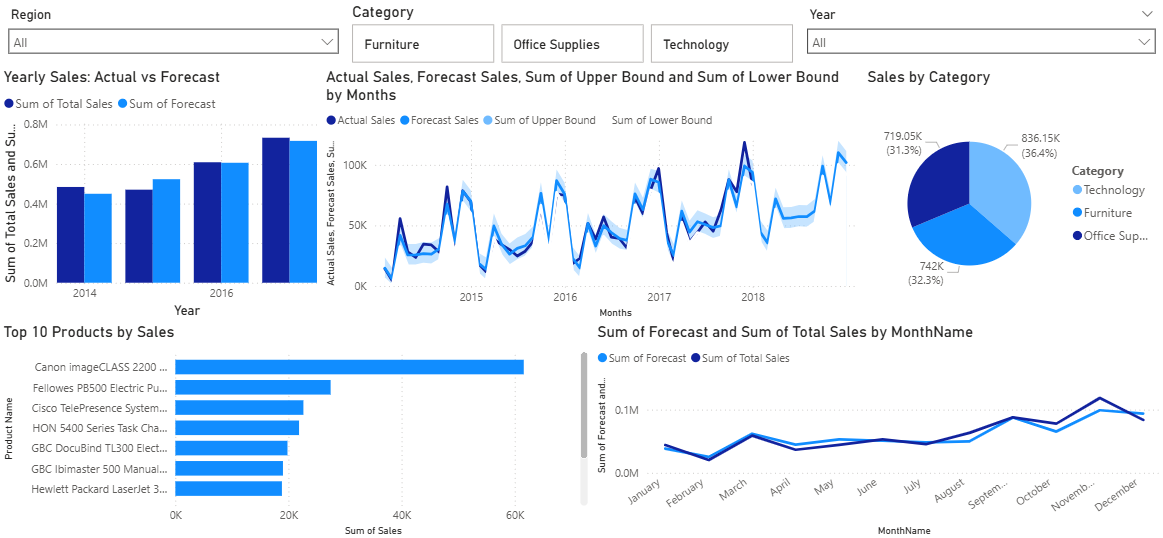

This screenshot's page, from the dashboard's own definition file:
{"tool":"powerbi","page":{"name":"Page 1","canvas":[1280,720],"ordinal":0},"visuals":[{"type":"lineChart","fields":{"Y":["Sum(MonthlyActuals.Total Sales)","Sum(forecast_results.Forecast)","Sum(forecast_results.Upper Bound)","Sum(forecast_results.Lower Bound)"],"Category":["forecast_results.MonthEnd"]},"box":[354.3,200,594.3,280],"z":0},{"type":"clusteredColumnChart","title":"Yearly Sales: Actual vs Forecast","fields":{"Y":["Sum(MonthlyActuals.Total Sales)","Sum(forecast_results.Forecast)"],"Category":["MonthlyActuals.Year"]},"box":[0,200,354.3,280],"z":1000},{"type":"lineChart","fields":{"Category":["forecast_results.MonthName"],"Y":["Sum(forecast_results.Forecast)","Sum(MonthlyActuals.Total Sales)"]},"box":[651.4,480,628.6,240],"z":2000},{"type":"cardVisual","title":"Total Actual Sales","fields":{"Data":["Sum(MonthlyActuals.Total Sales)"]},"box":[0,0,249.7,129],"z":3000},{"type":"cardVisual","title":"Total Forecasted Sales","fields":{"Data":["Sum(forecast_results.Forecast)"]},"box":[249.7,0,267.6,129],"z":4000},{"type":"cardVisual","title":"Next Month Forecast","fields":{"Data":["Sum(forecast_results.Forecast)"]},"box":[517.3,0,269,129],"z":5000},{"type":"clusteredBarChart","title":"Top 10 Products by Sales","fields":{"Category":["Superstore.Product Name"],"Y":["Sum(Superstore.Sales)"]},"box":[0,480,651.4,240],"z":6000},{"type":"cardVisual","fields":{"Data":["MonthlyActuals.LowestMonthName","MonthlyActuals.LowestMonth"]},"box":[786.3,0,494,129],"z":7000},{"type":"pieChart","fields":{"Category":["Superstore.Category"],"Y":["Sum(Superstore.Sales)"]},"box":[948.6,200,331.4,280],"z":8000},{"type":"advancedSlicerVisual","fields":{"Values":["Superstore.Category"]},"box":[382.9,128.6,494.3,71.4],"z":9000},{"type":"slicer","fields":{"Values":["Superstore.Region"]},"box":[0,128.6,382.9,71.4],"z":10000},{"type":"slicer","fields":{"Values":["forecast_results.Year"]},"box":[877.1,128.6,402.9,71.4],"z":11000}]}

Visuals, with their boxes on the page's 1280x720 design canvas (x1, y1, x2, y2). These are canvas units, not pixel positions in the 1163x538 screenshot, which may show the page scaled, cropped or inside an application window:
lineChart - Sum(MonthlyActuals.Total Sales) x Sum(forecast_results.Forecast): [354, 200, 949, 480]
"Yearly Sales: Actual vs Forecast" clusteredColumnChart: [0, 200, 354, 480]
lineChart - forecast_results.MonthName x Sum(forecast_results.Forecast): [651, 480, 1280, 720]
"Total Actual Sales" cardVisual: [0, 0, 250, 129]
"Total Forecasted Sales" cardVisual: [250, 0, 517, 129]
"Next Month Forecast" cardVisual: [517, 0, 786, 129]
"Top 10 Products by Sales" clusteredBarChart: [0, 480, 651, 720]
cardVisual - MonthlyActuals.LowestMonthName x MonthlyActuals.LowestMonth: [786, 0, 1280, 129]
pieChart - Superstore.Category x Sum(Superstore.Sales): [949, 200, 1280, 480]
advancedSlicerVisual - Superstore.Category: [383, 129, 877, 200]
slicer - Superstore.Region: [0, 129, 383, 200]
slicer - forecast_results.Year: [877, 129, 1280, 200]
